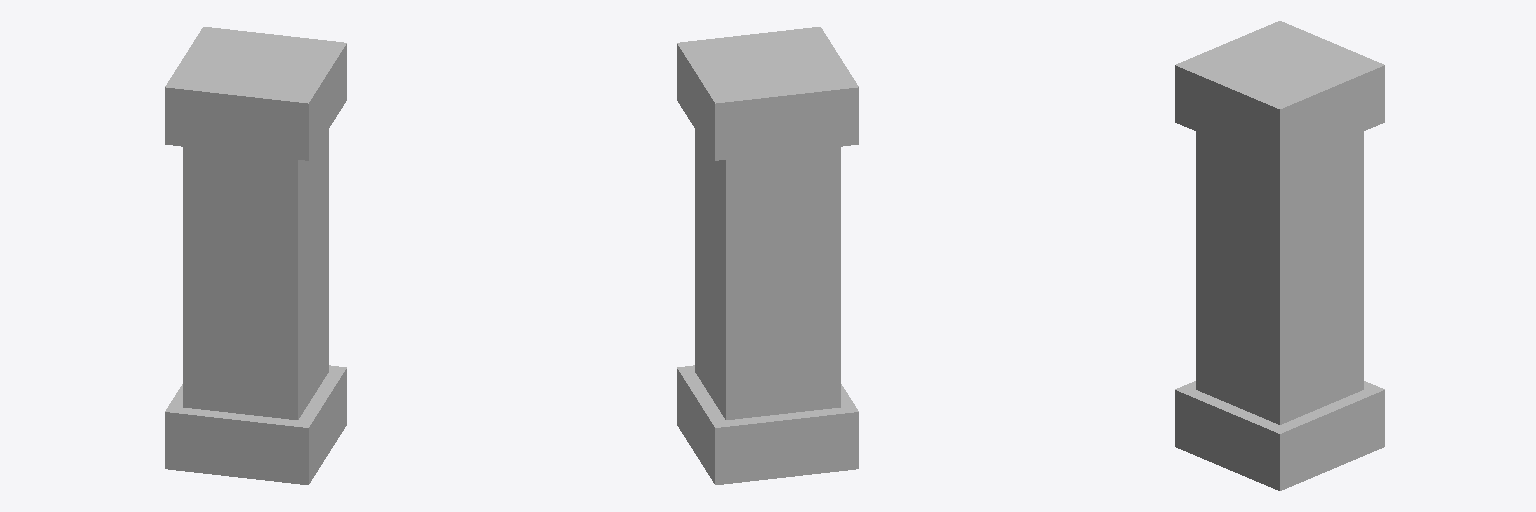
Rendered from waterTube.obj.
3 views of the same model, side by side, from view 1: azimuth 30°, elevation 25°; view 2: azimuth 150°, elevation 25°; view 3: azimuth 270°, elevation 25° (orthographic).
Parts seen in each view (by area): view 1: Cube; view 2: Cube; view 3: Cube.
Boxes of the visible parts, x1,y1,x2,y2 form: Cube: [165, 27, 346, 484]; Cube: [677, 27, 858, 484]; Cube: [1175, 21, 1384, 490].
Size of the model in its own units: 1 by 2 by 1.